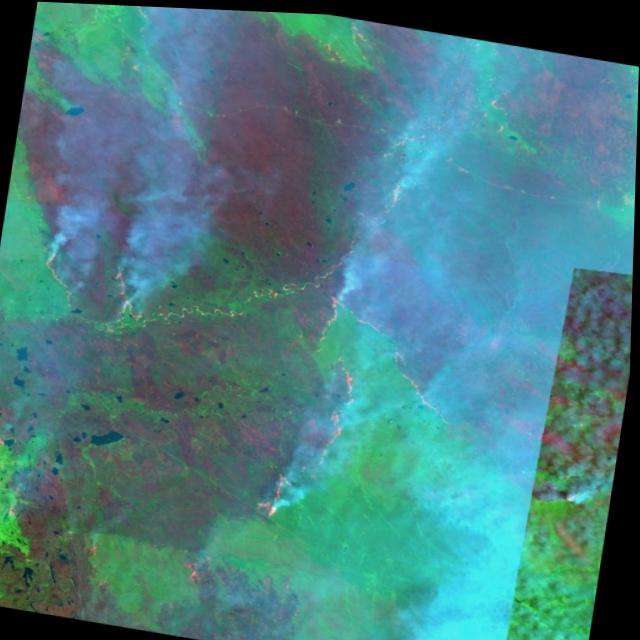fire: (246, 281, 376, 537), (25, 222, 162, 339)
